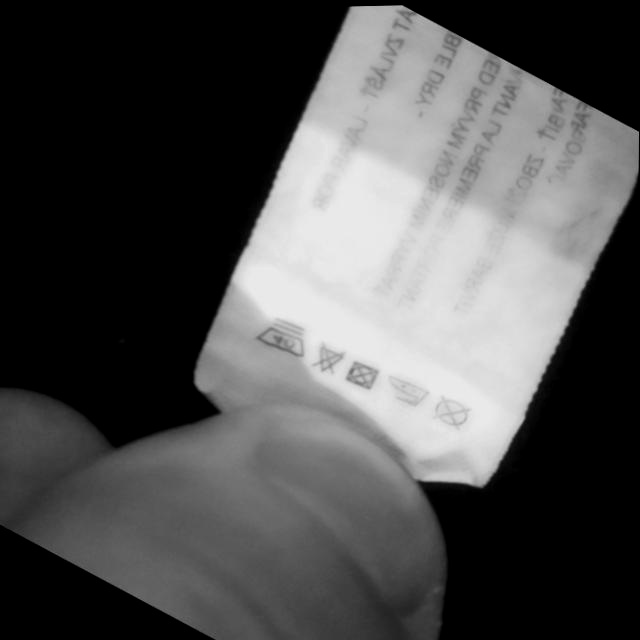40C: (253, 316, 308, 360)
DN_bleach: (312, 344, 343, 374)
DN_dry_clean: (431, 393, 470, 429)
DN_tumble_dry: (344, 359, 379, 391)
iron_low: (384, 371, 427, 407)
